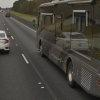Bus: (29, 0, 100, 96)
